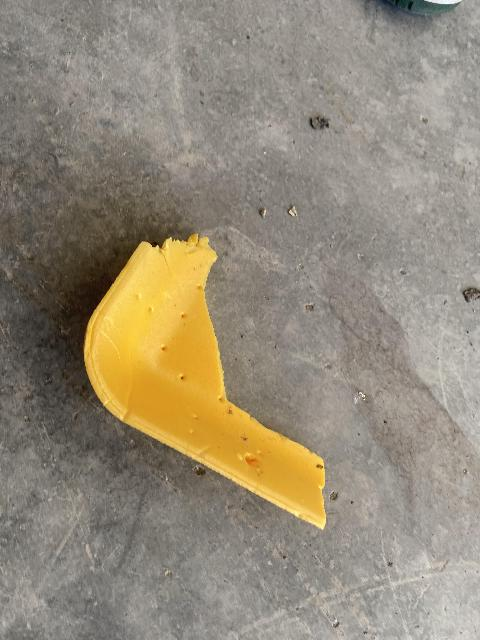Plastik: (84, 237, 338, 535)
